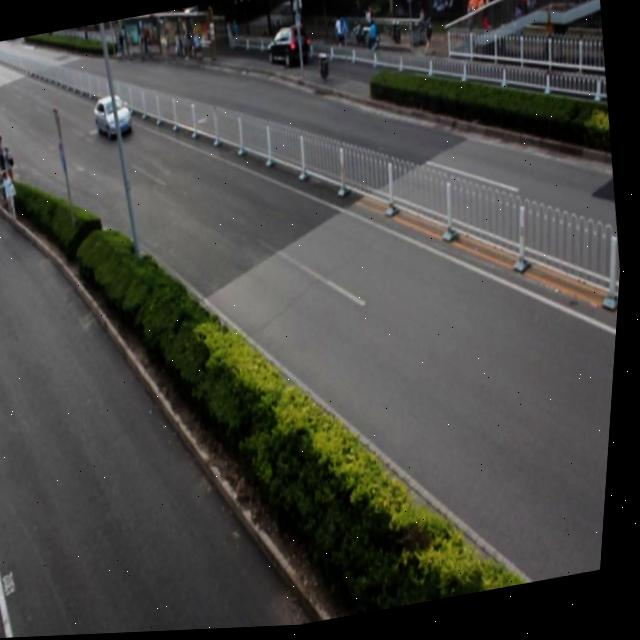car: (91, 93, 136, 142), (266, 28, 313, 73)
